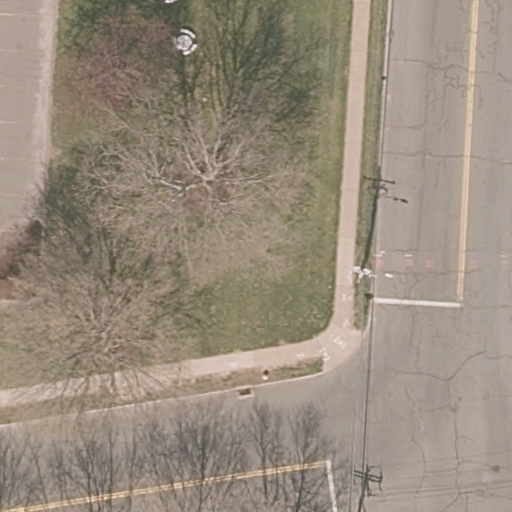DT: (352, 263, 388, 287)
